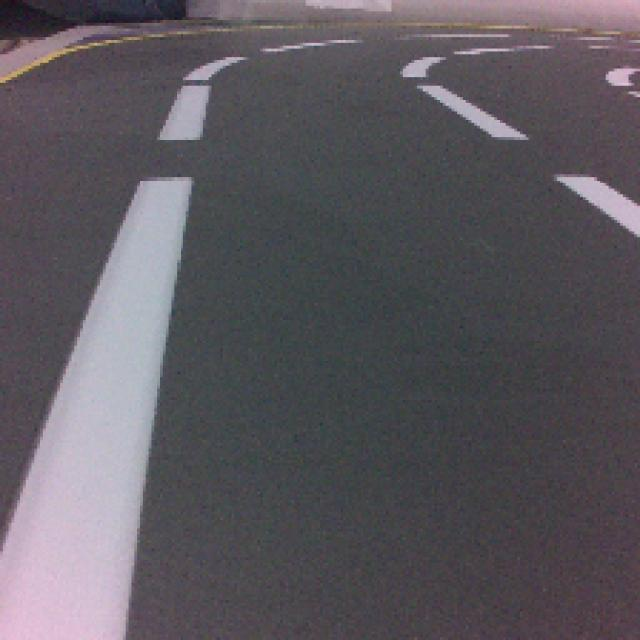Road: (121, 332, 640, 640)
